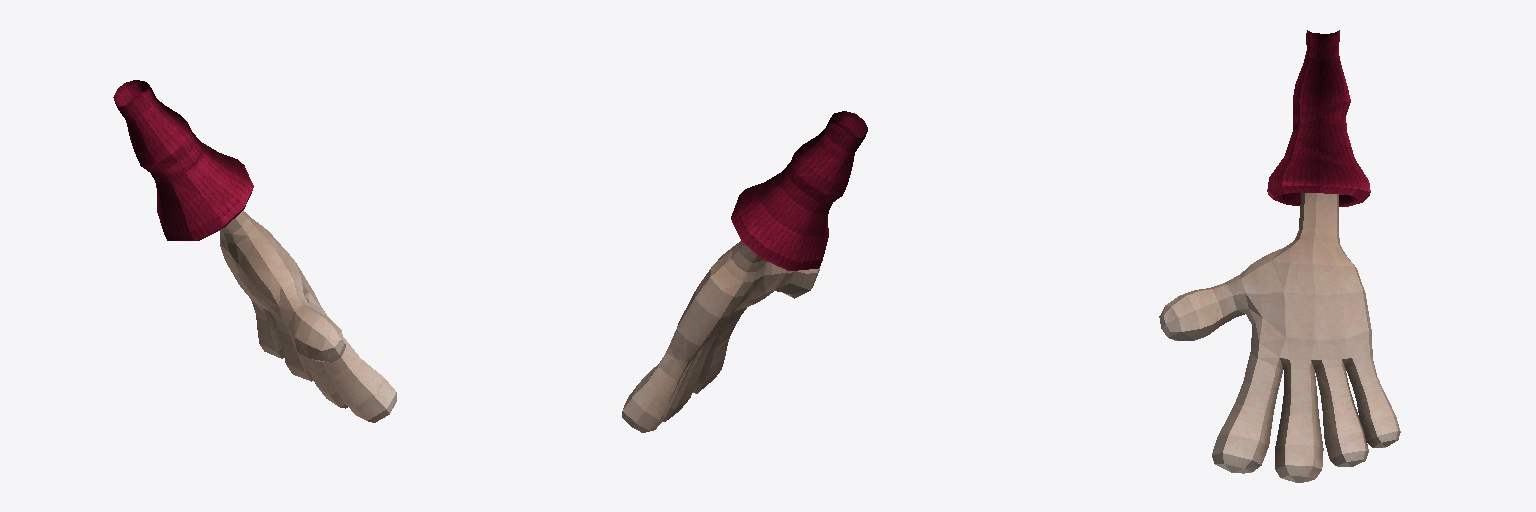
3 views of the same model, side by side, from view 1: azimuth 30°, elevation 25°; view 2: azimuth 150°, elevation 25°; view 3: azimuth 270°, elevation 25° (orthographic).
Parts seen in each view (by area): view 1: BrazoN1I; view 2: BrazoN1I; view 3: BrazoN1I.
Boxes of the visible parts, x1,y1,x2,y2 form: BrazoN1I: [113, 80, 396, 422]; BrazoN1I: [622, 111, 867, 432]; BrazoN1I: [1159, 30, 1400, 482].
Bounding box in the file's own units: 3.75 × 5.45 × 3.32.
1 materials, 1 textured.